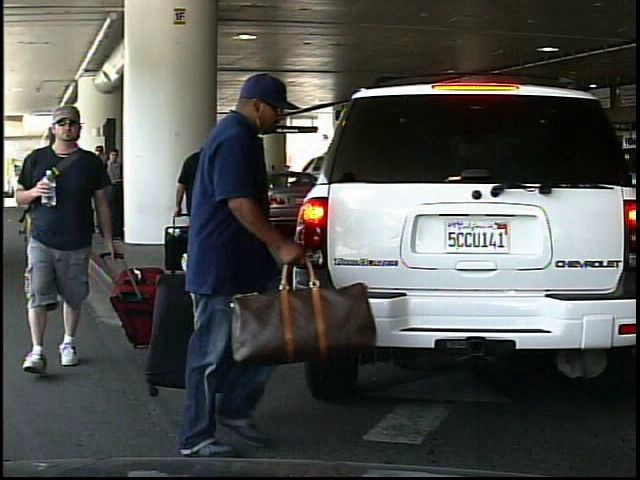person: (169, 74, 317, 464), (22, 100, 116, 378), (165, 130, 231, 275)
